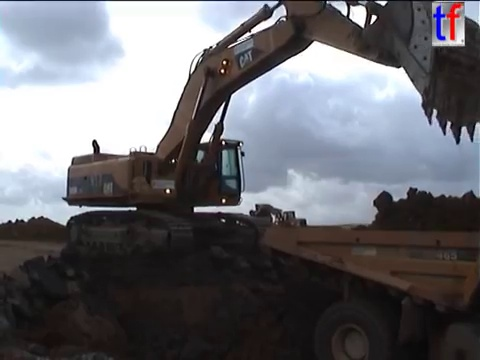excavator: (57, 1, 480, 261)
truck: (257, 223, 480, 360)
wheel loader: (245, 202, 310, 238)
